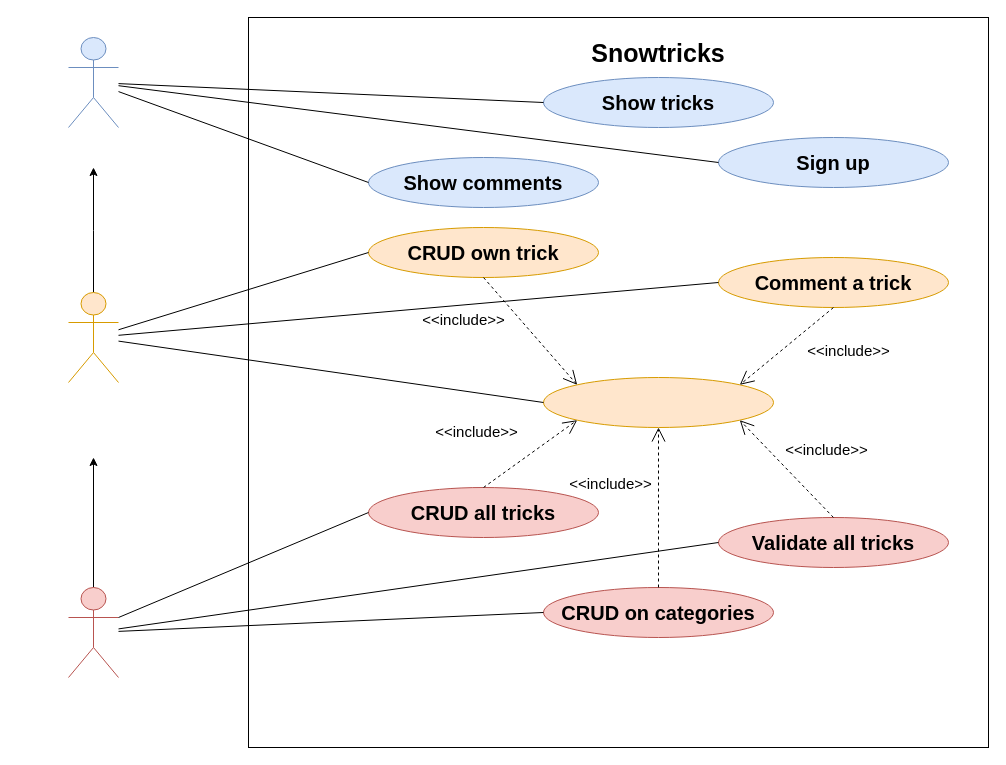
Image size: 1006x765. Some labels were removed from this diagram. Here are the shapes that lost their labels. From the top down, the centre of each, then its label:
At [93,82]: "User".
At [93,337]: "Authenticated user".
At [658,402]: "Login".
At [93,632]: "Admin".
